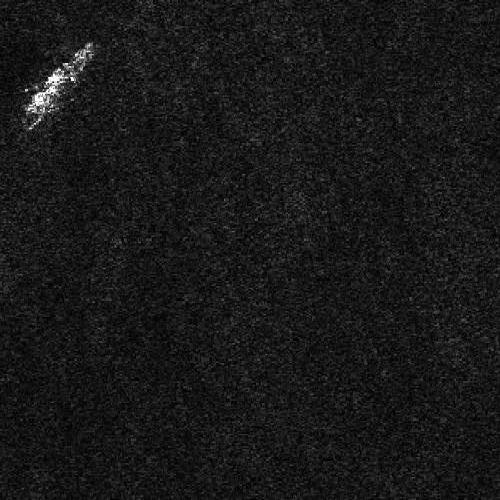ship: (23, 42, 102, 132)
